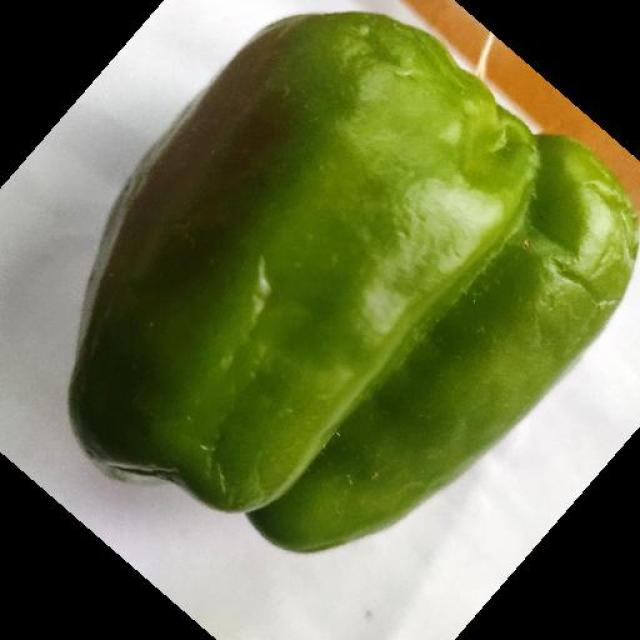Stale_Capsicum: (98, 17, 527, 505)
